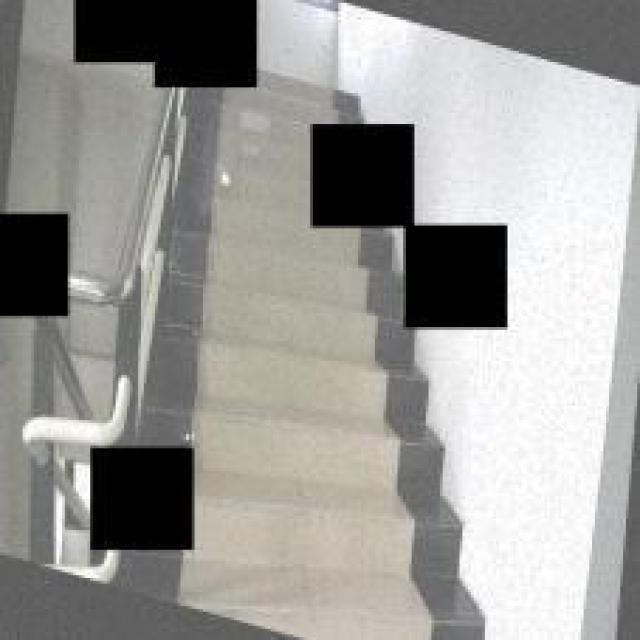upstair: (173, 243, 376, 438)
